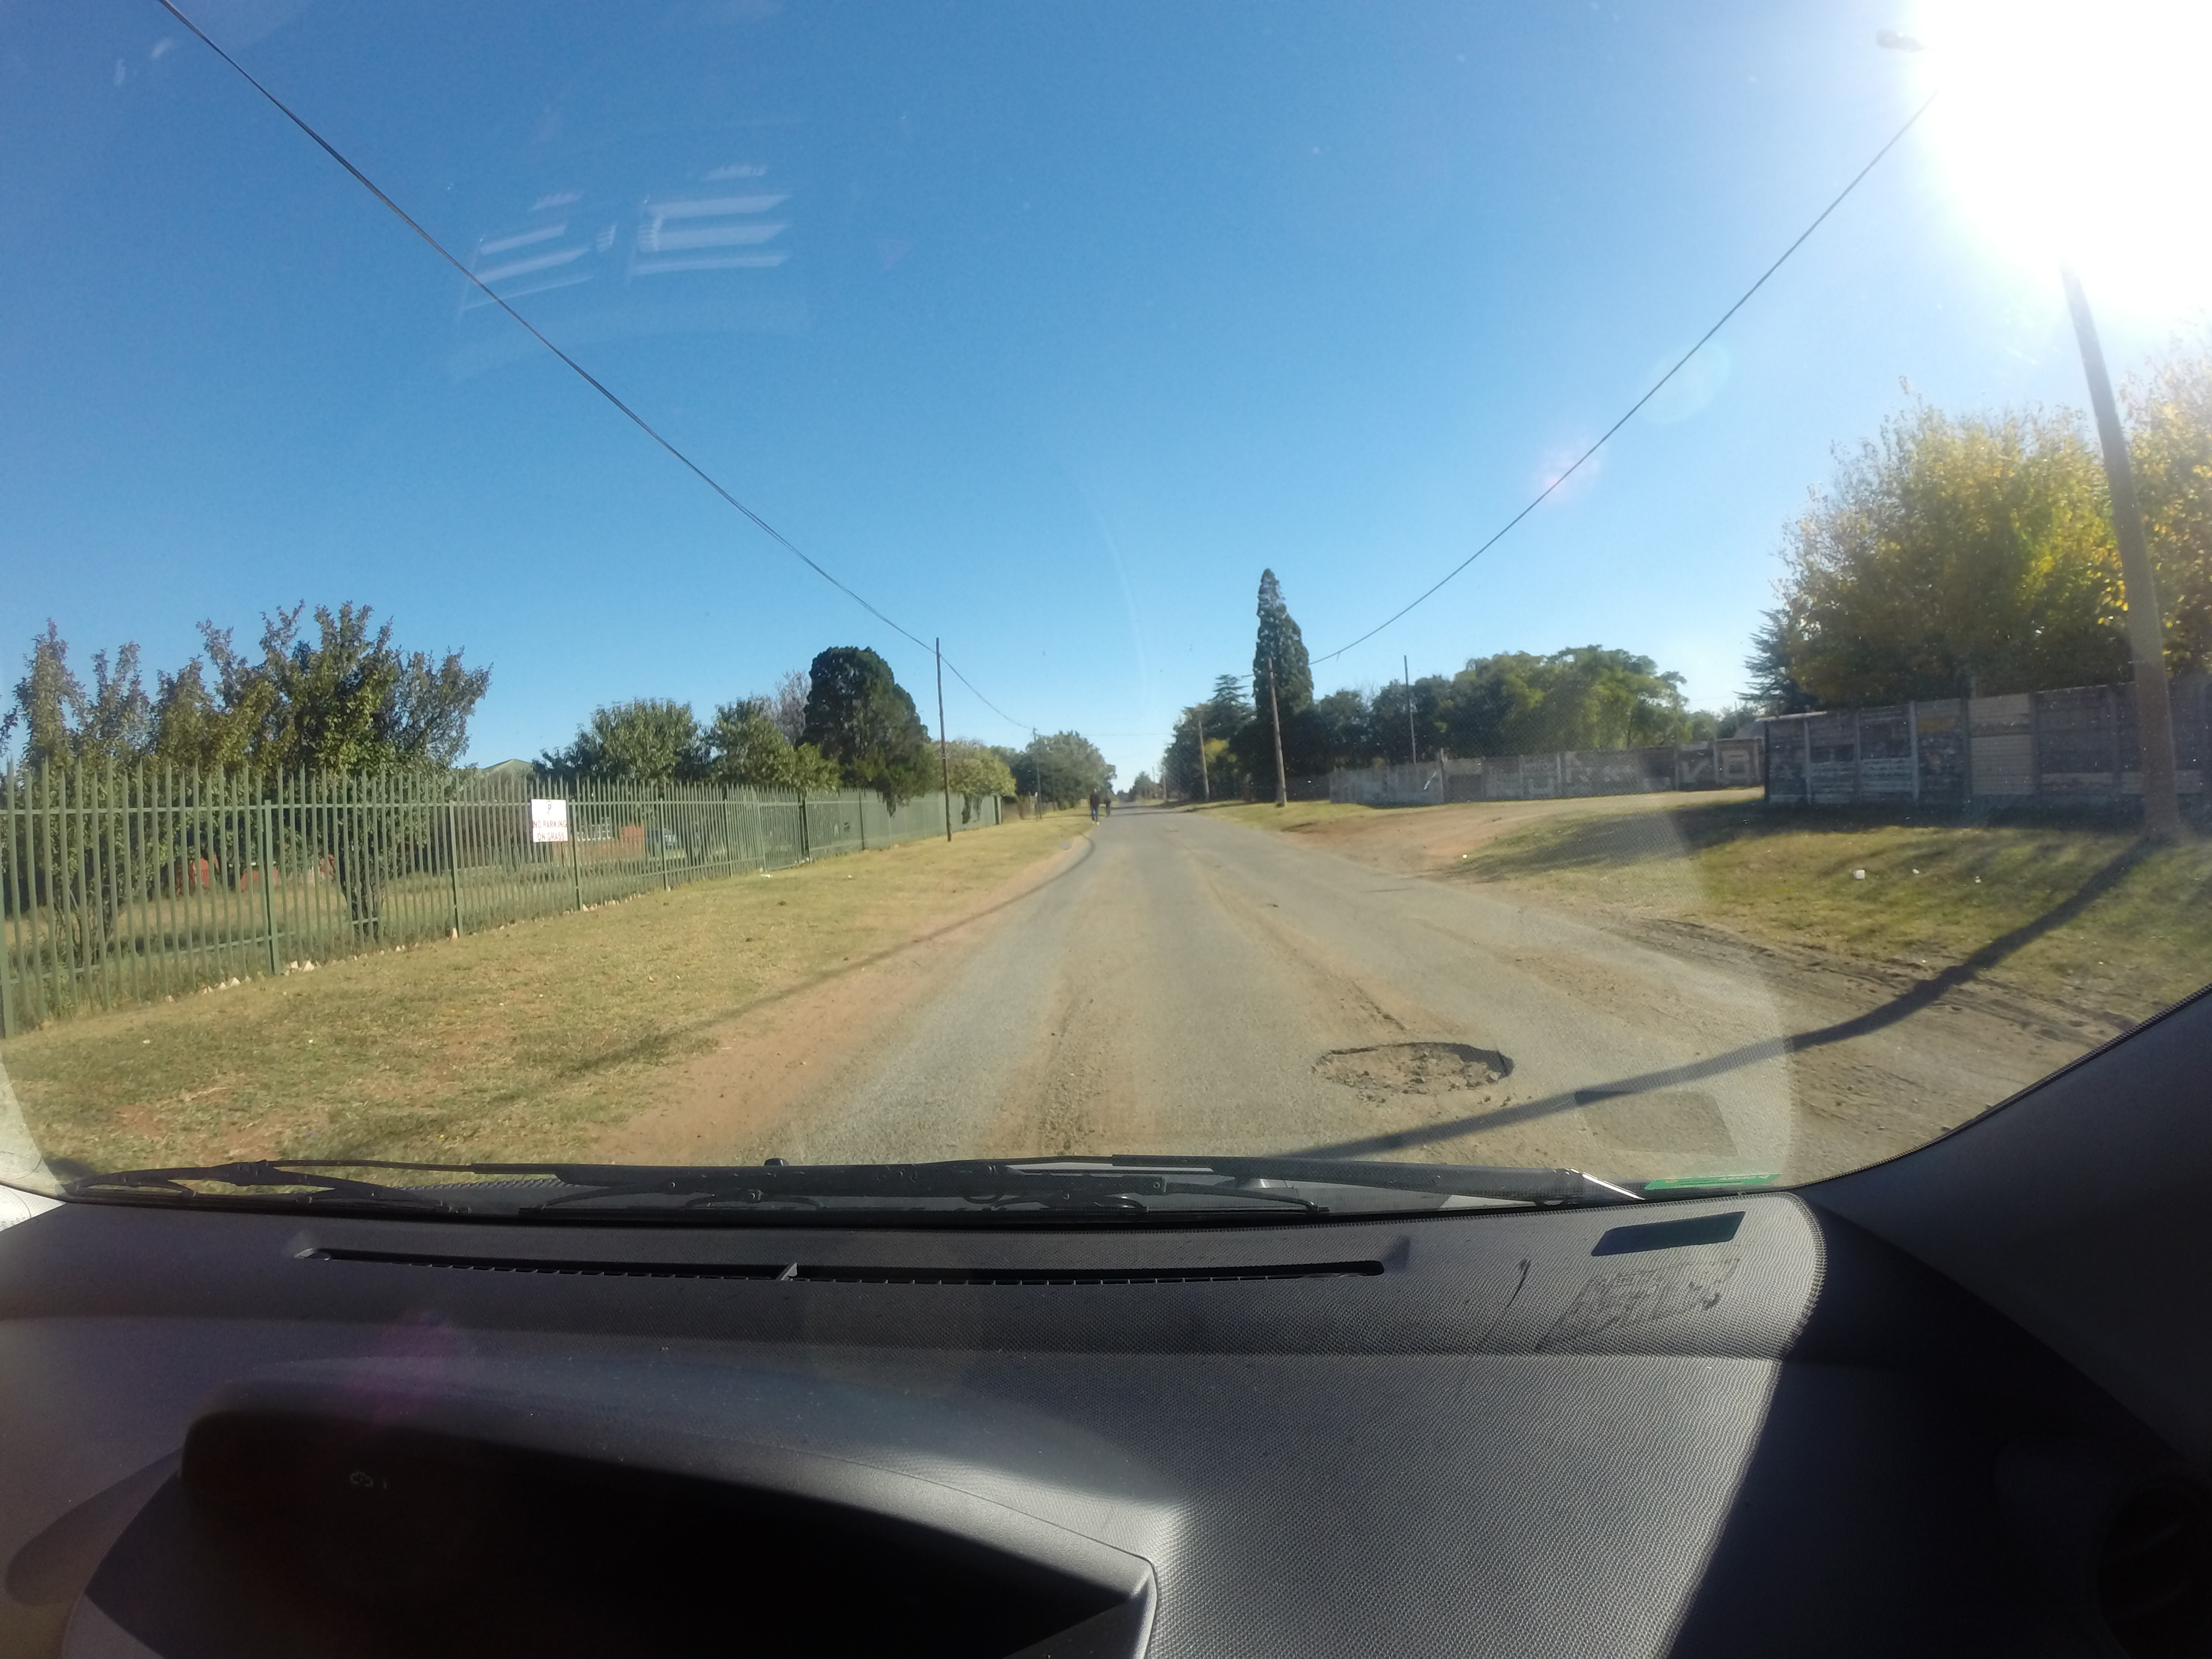pothole: (1211, 974, 1623, 1145)
